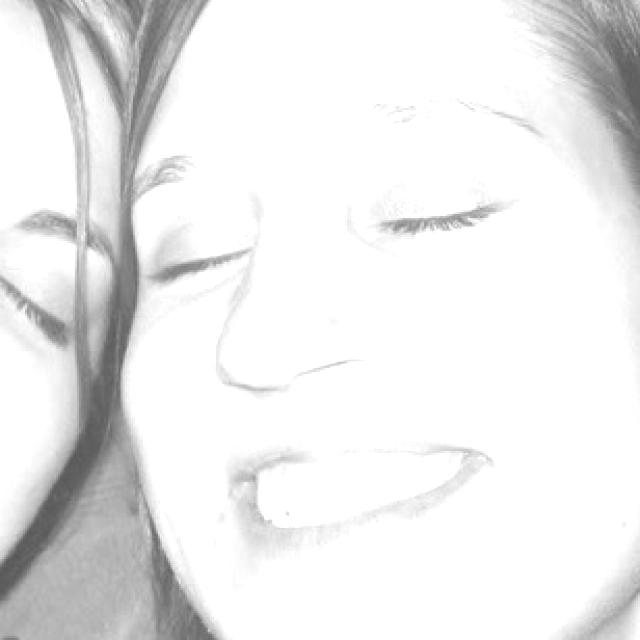real: (126, 0, 638, 640), (162, 161, 570, 292)
